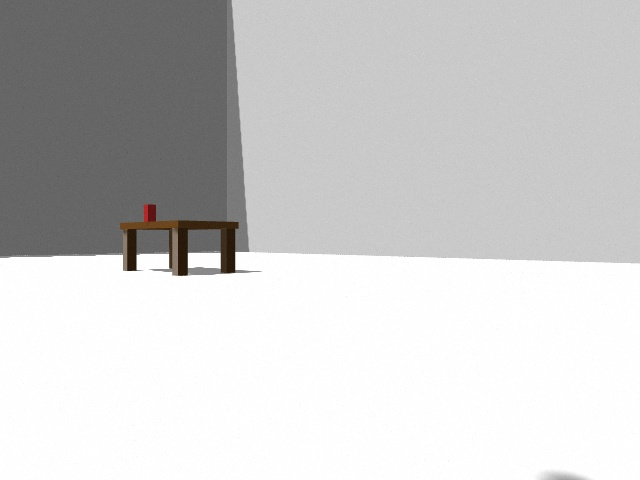red_cube: (144, 205, 148, 222)
